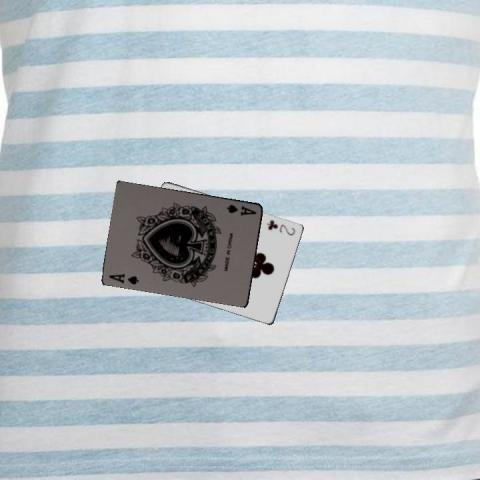2c: (264, 216, 297, 236)
As: (224, 201, 258, 217), (106, 271, 141, 286)
